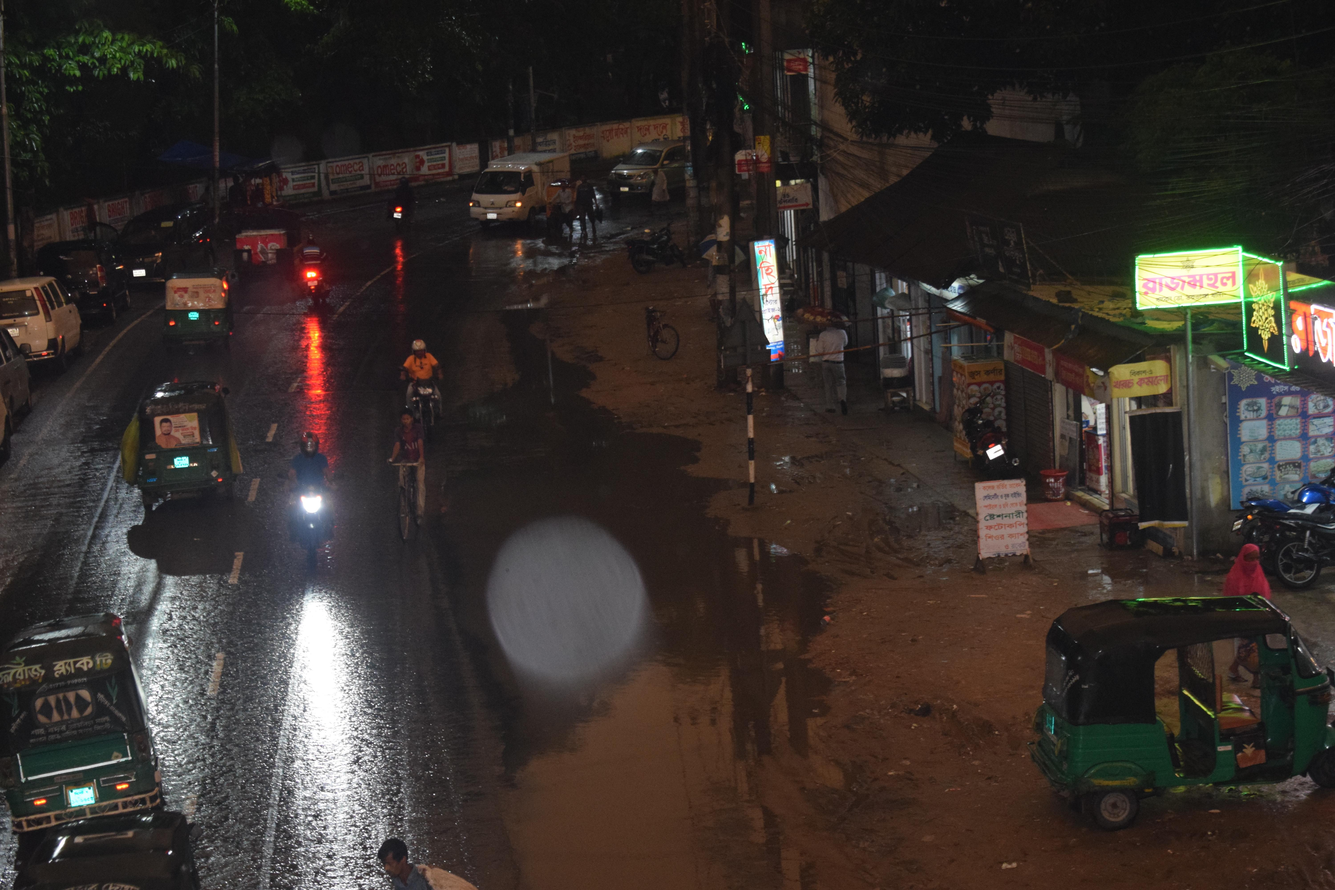Bike: (260, 414, 373, 597), (370, 330, 483, 449), (274, 214, 362, 321), (606, 211, 701, 292), (362, 168, 441, 259)
Car: (0, 256, 85, 385)
Truck: (448, 131, 606, 257)
